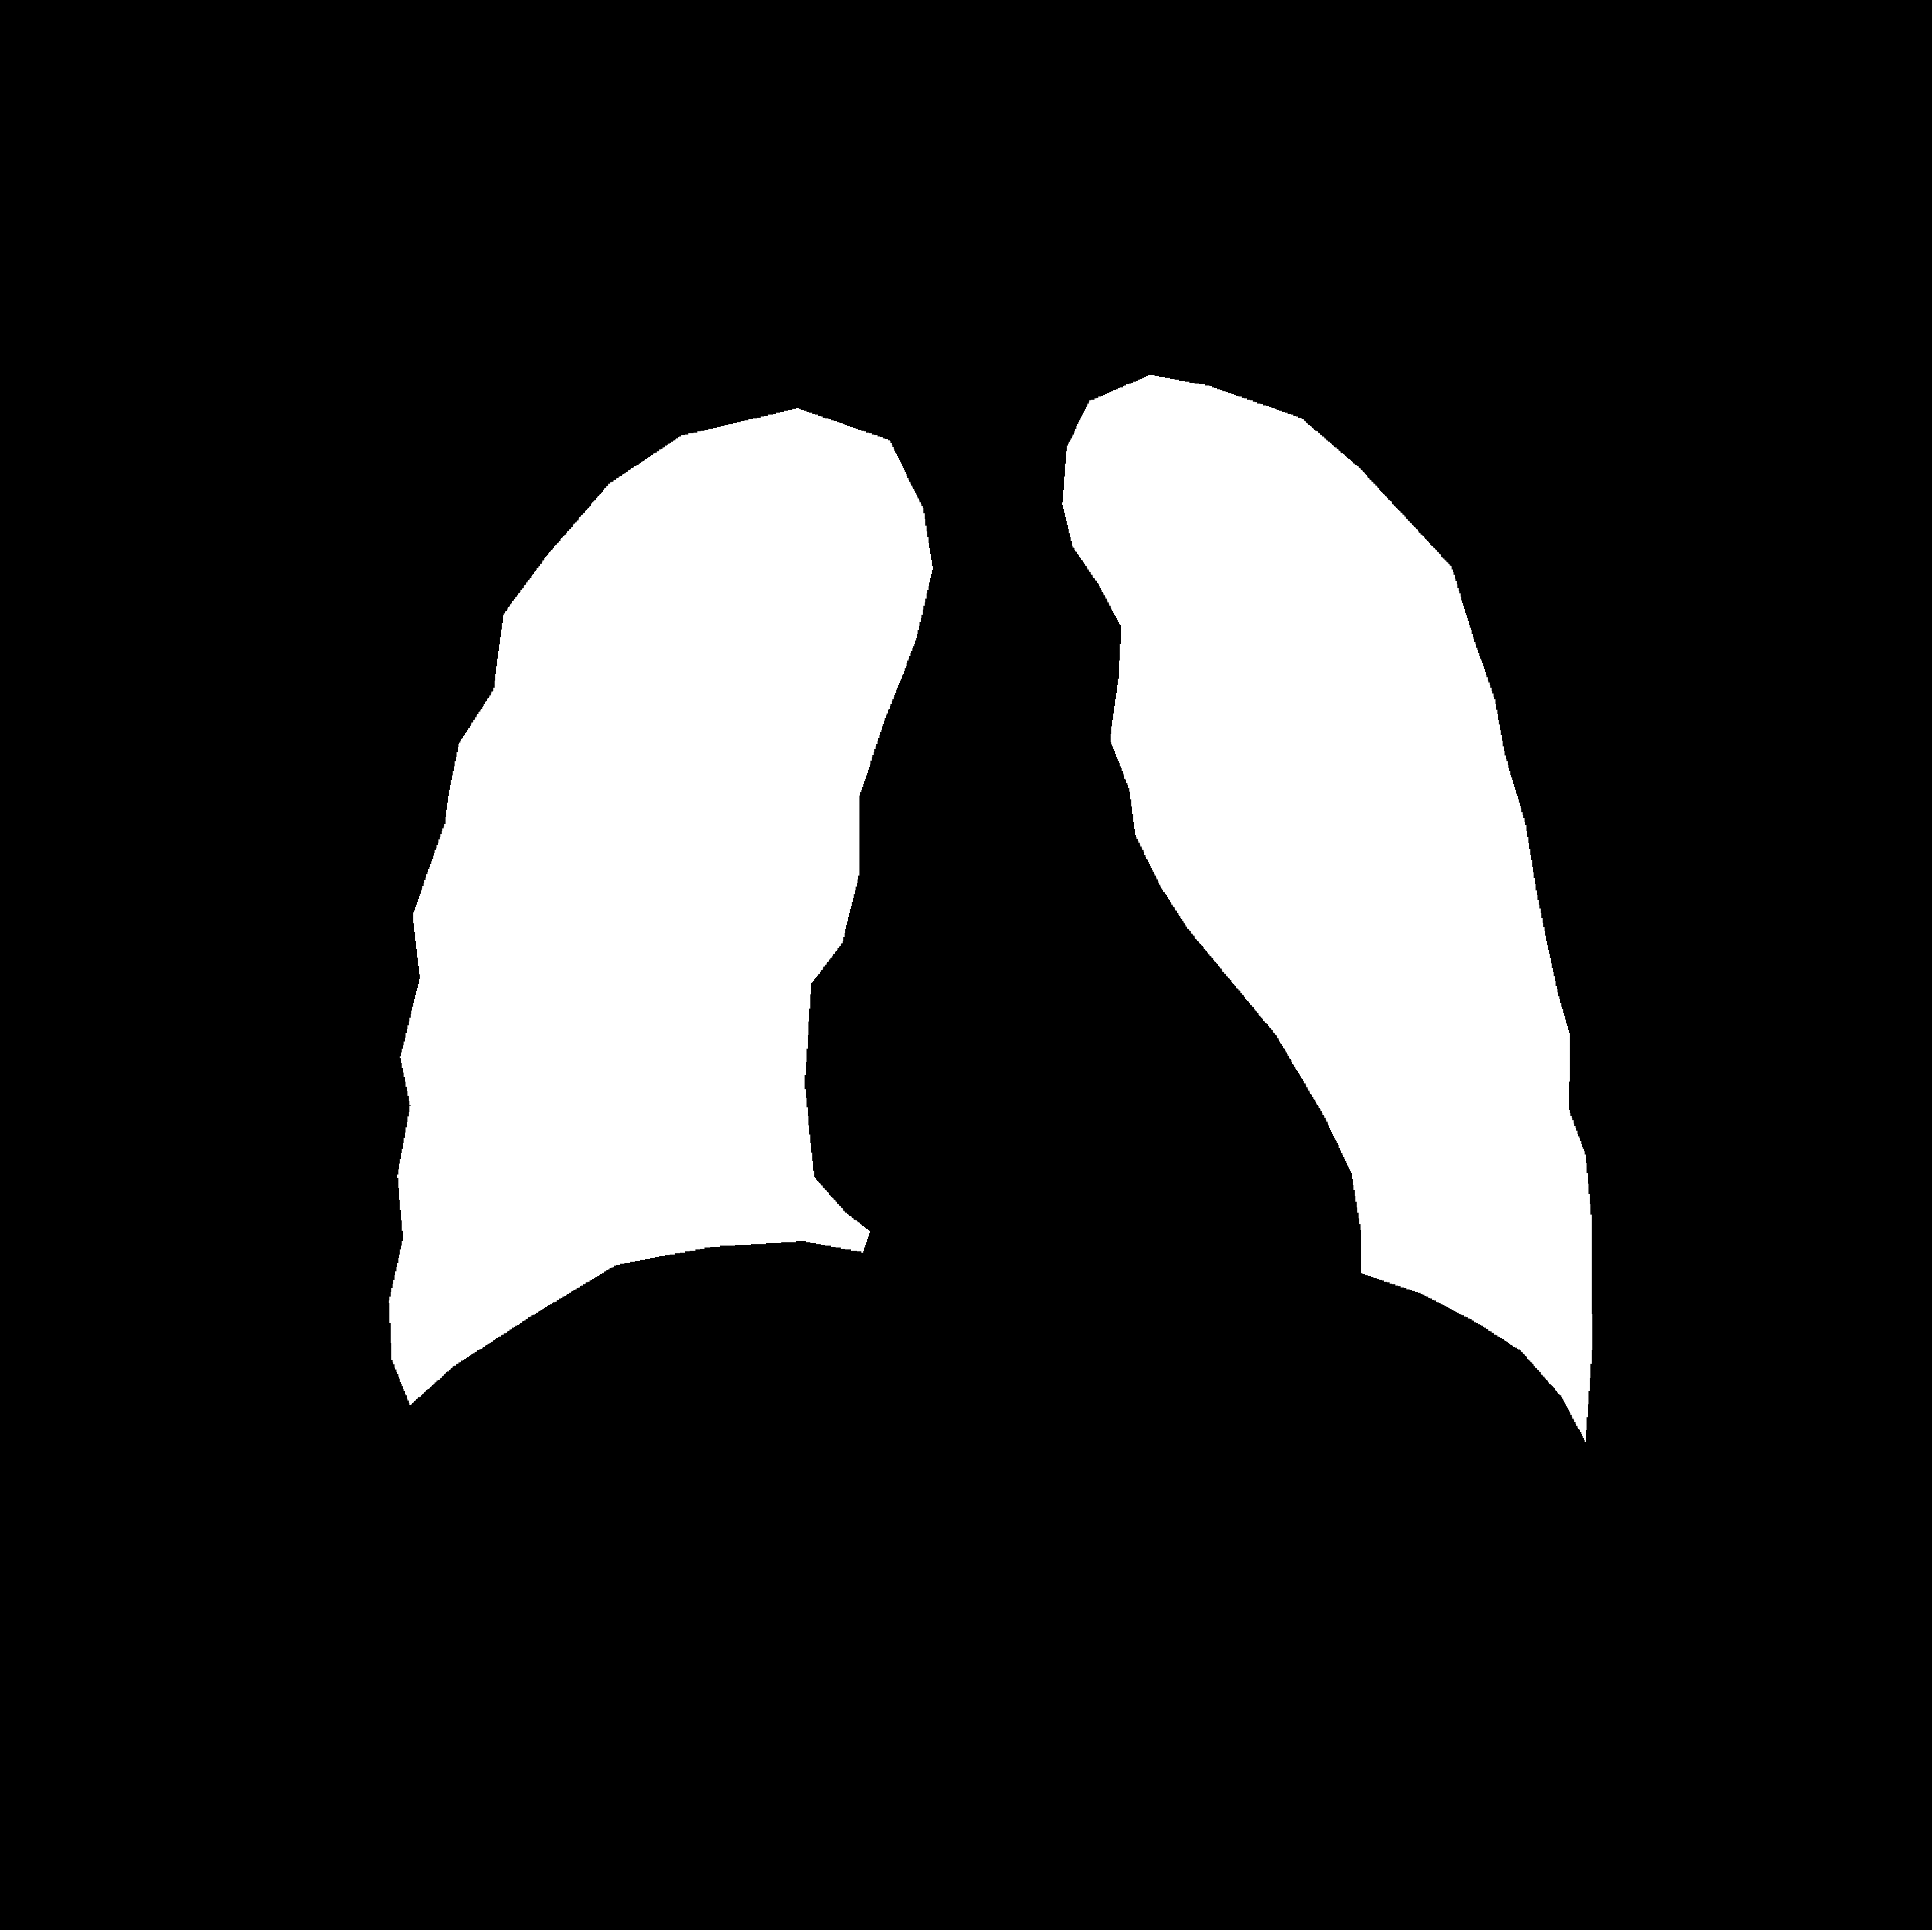heart: (806, 921, 1359, 1333)
left_lung: (389, 408, 933, 1405)
right_lung: (1062, 375, 1591, 1440)
